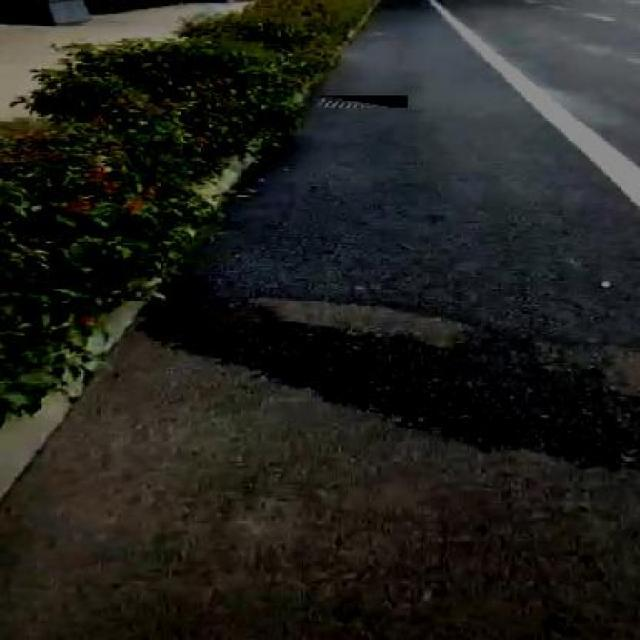Manhole: (322, 95, 408, 108)
Pothole: (248, 289, 477, 350), (530, 329, 640, 408)
